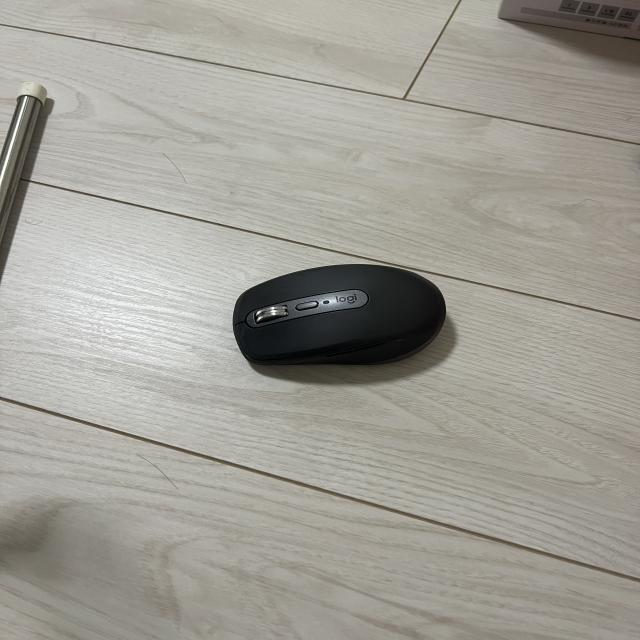mouse: (228, 260, 455, 366)
